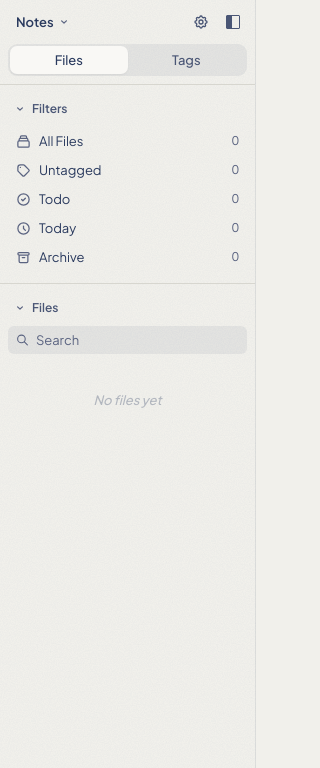
Test: WorkspaceSidebar › switches between Files and Tags under the header, with the smart filters above both
The width and height of the screenshot is (320, 768).
Expected: the element "Filters" is shown, [0,84,255,283]
Click the tab "Tags" at [186, 60], box [128,46,245,74]
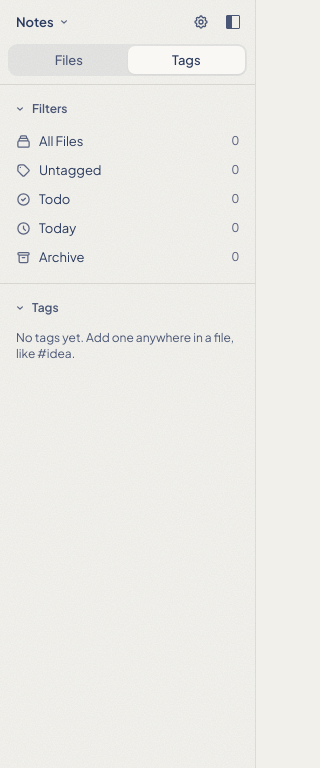
Expected: the element "Filters" is shown, [0,84,255,283]
Expected: the element "Tags" is shown, [0,283,255,378]
